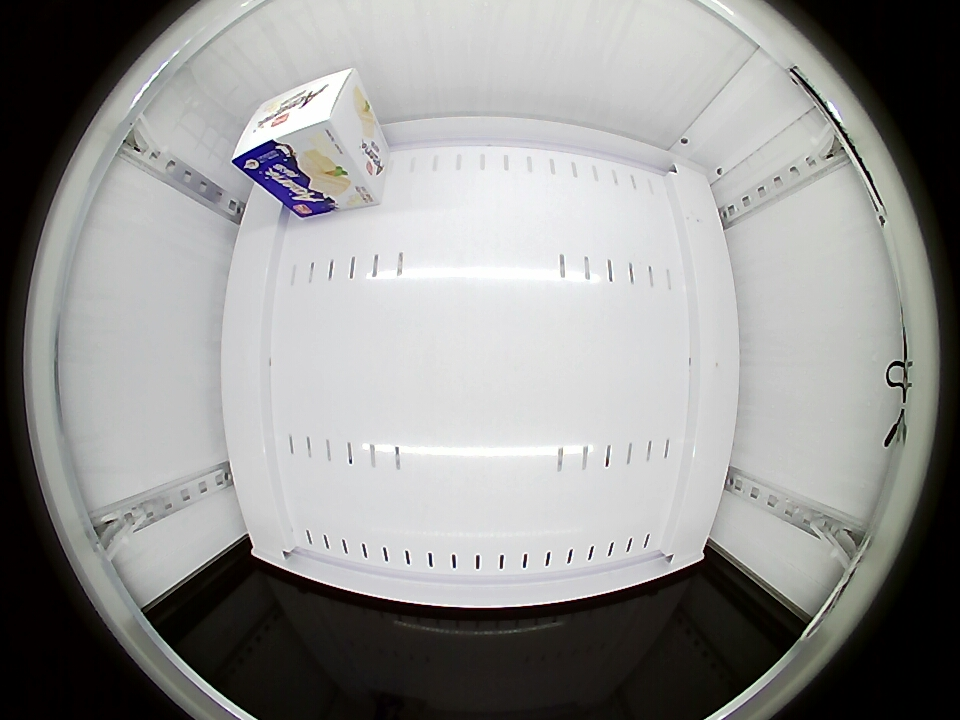meiniye: (231, 66, 365, 183)
